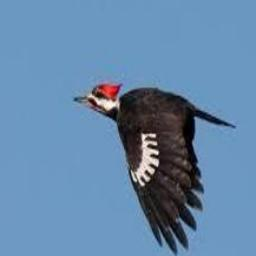Woodpecker: (76, 82, 236, 253)
